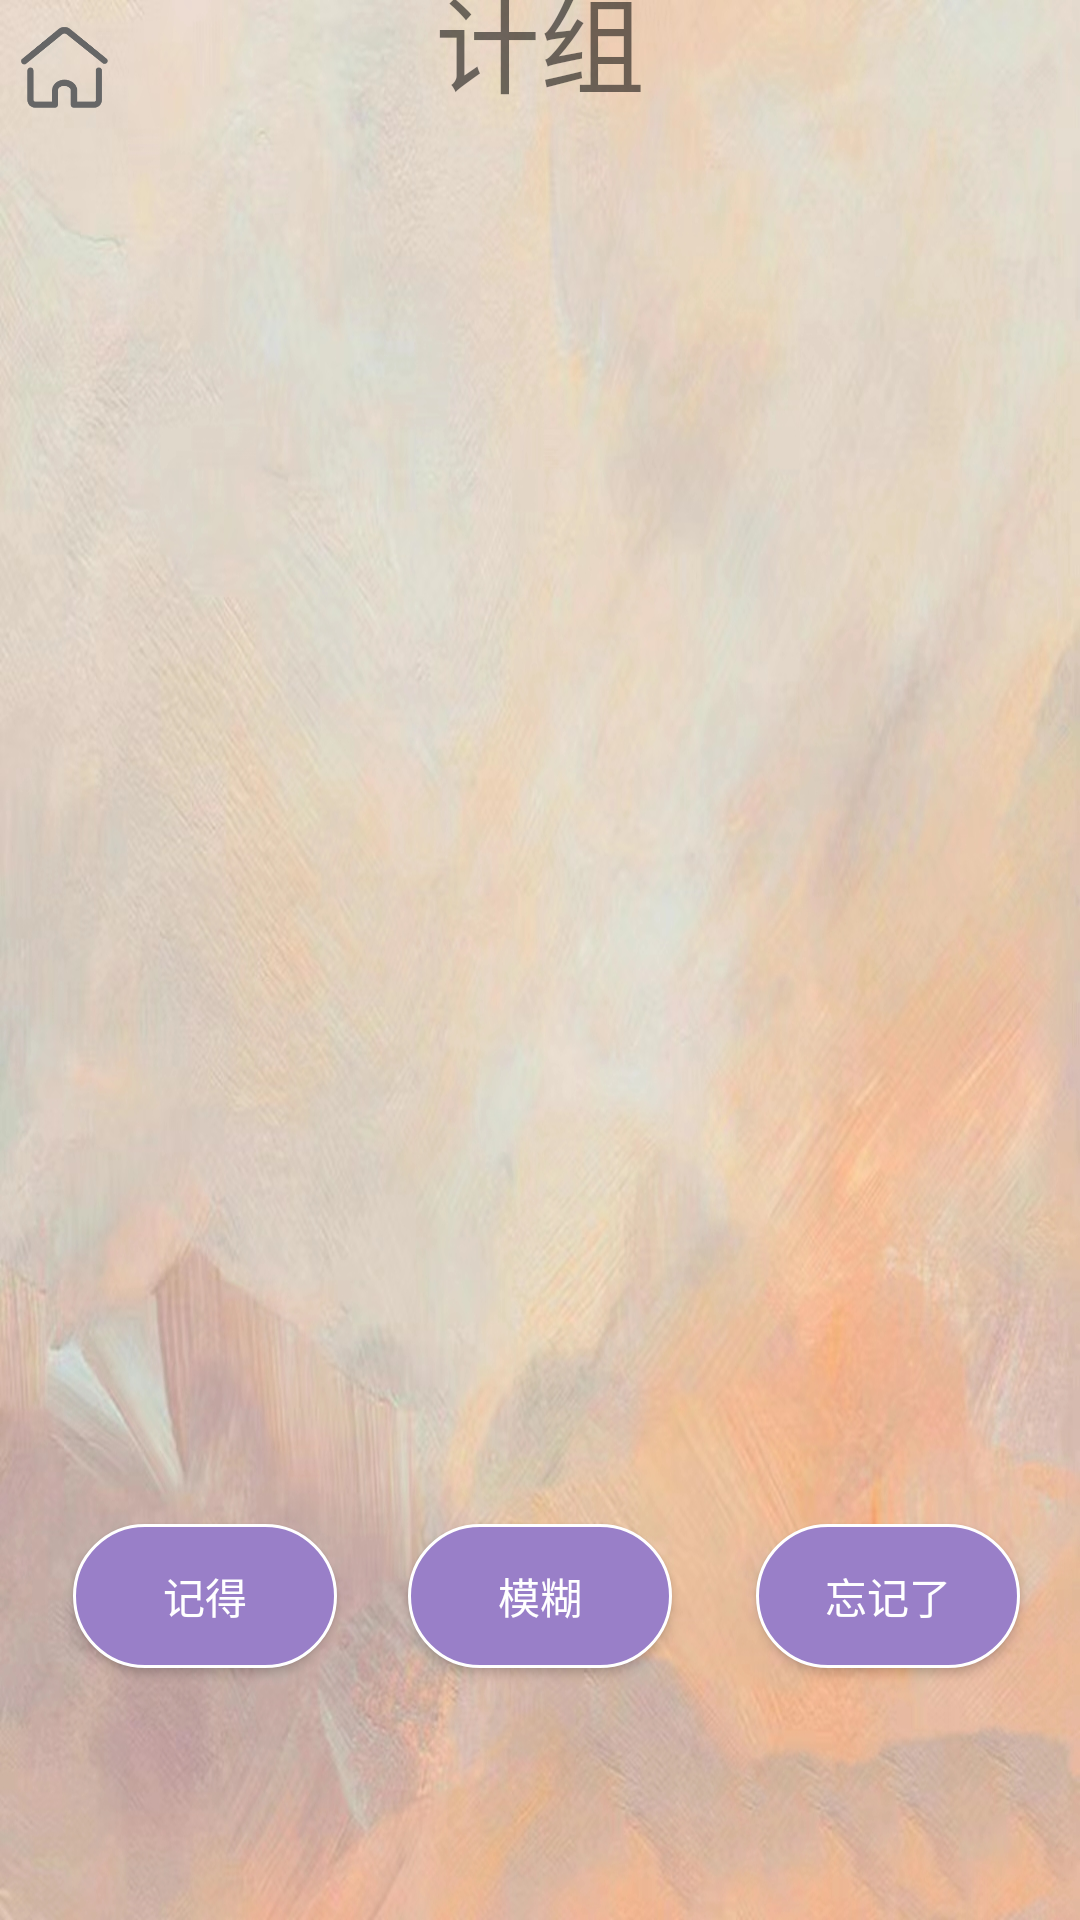

Icons on this 1080×1920 Android screen, each with its box as (x1, y1, x2, y2):
home: (21, 27, 108, 108)
